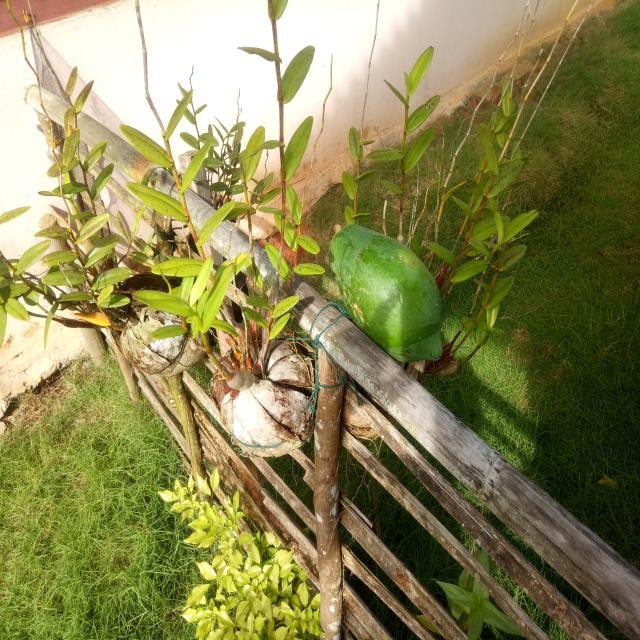Pepaya unrippen: (322, 216, 446, 366)
